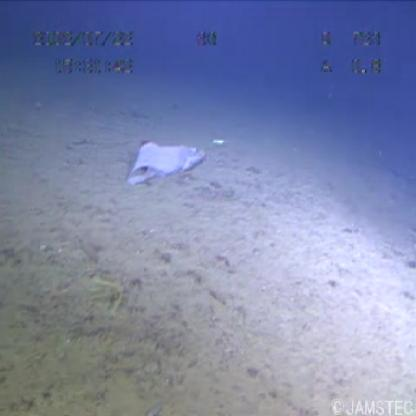Rác: (119, 128, 224, 200)
